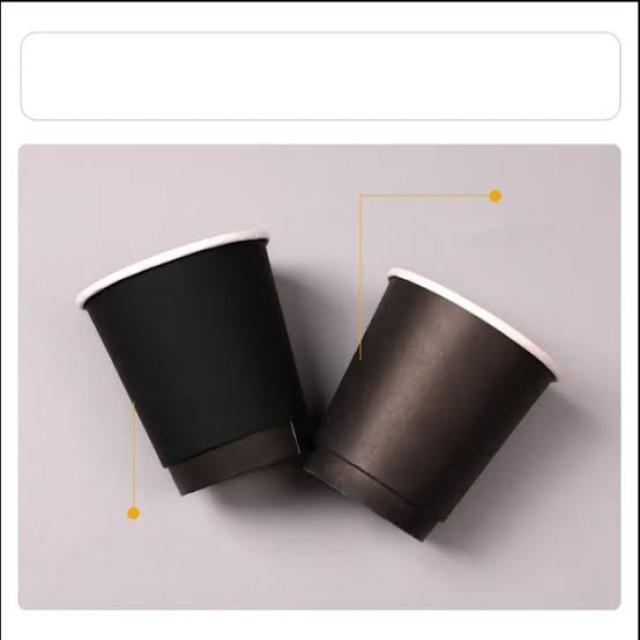plastic cup: (286, 256, 588, 556)
